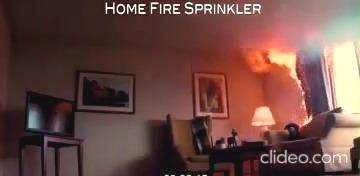fire: (243, 32, 320, 113)
